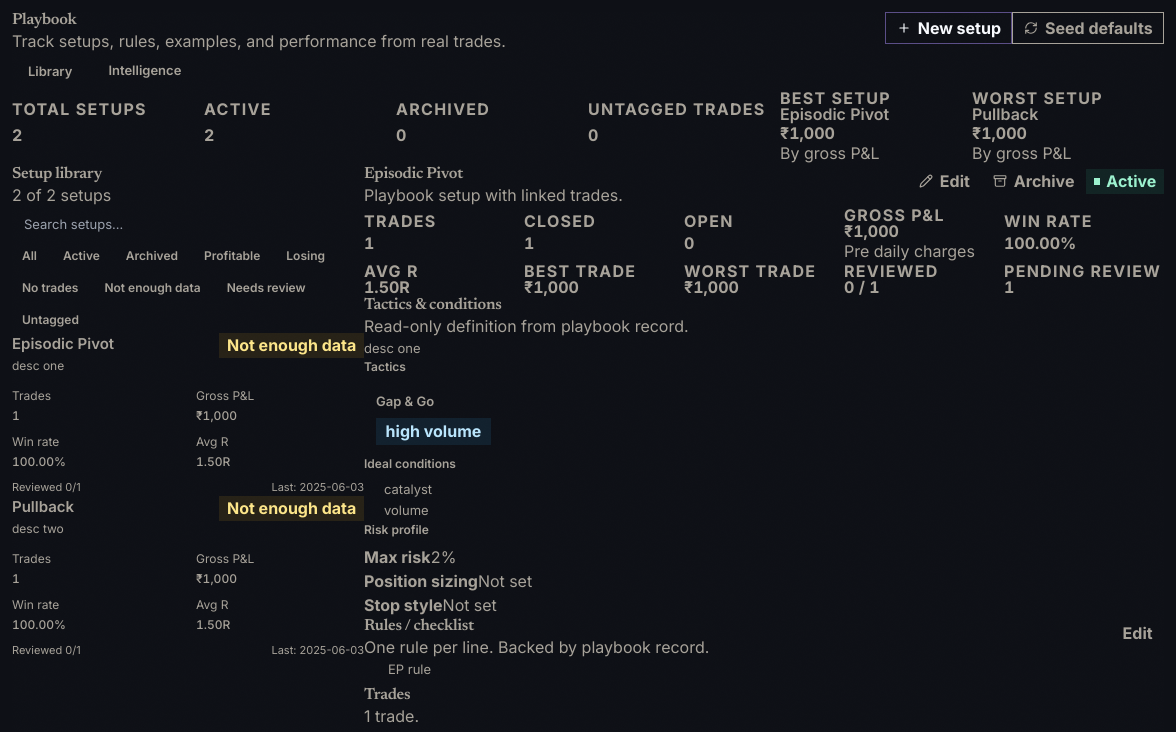
Test: PlaybookV3Page › selecting a different setup updates detail panel
Expected: the list item "EP rule" is shown, x1=388 y1=661 x2=431 y2=677
Click the text "Pullback" below "2 of 2 setups": click(43, 507) x1=12 y1=496 x2=74 y2=518
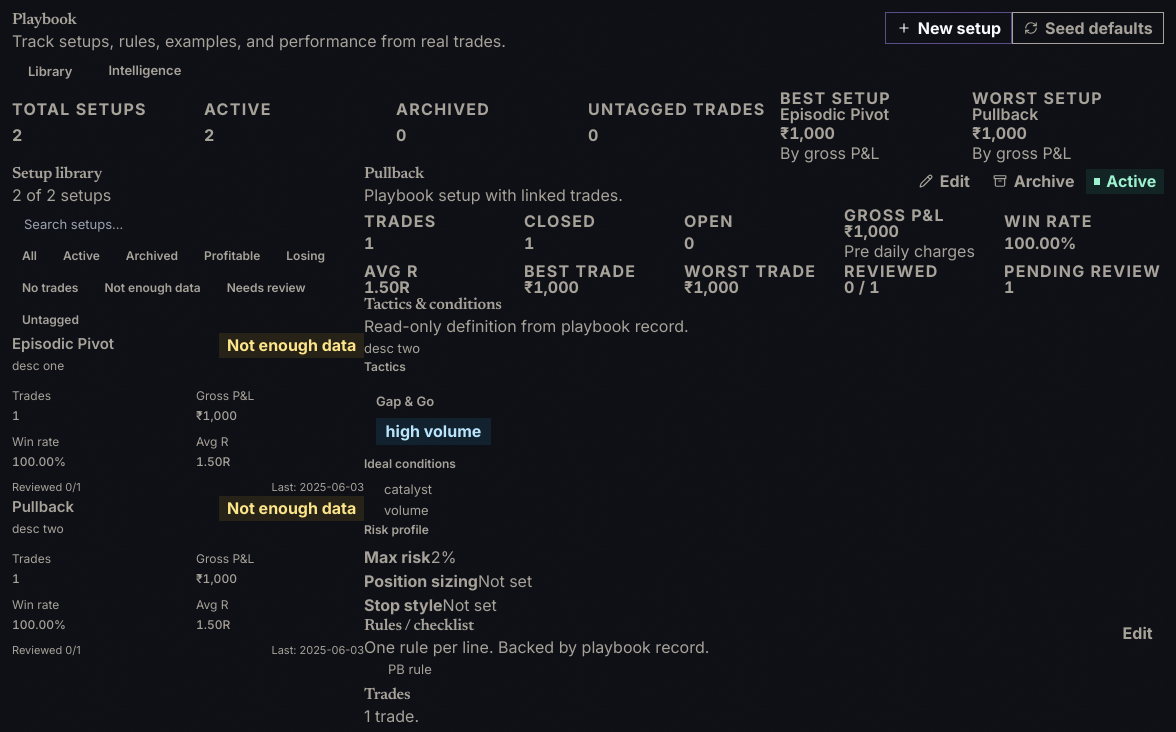
Expected: the list item "PB rule" is shown, x1=388 y1=661 x2=432 y2=677
